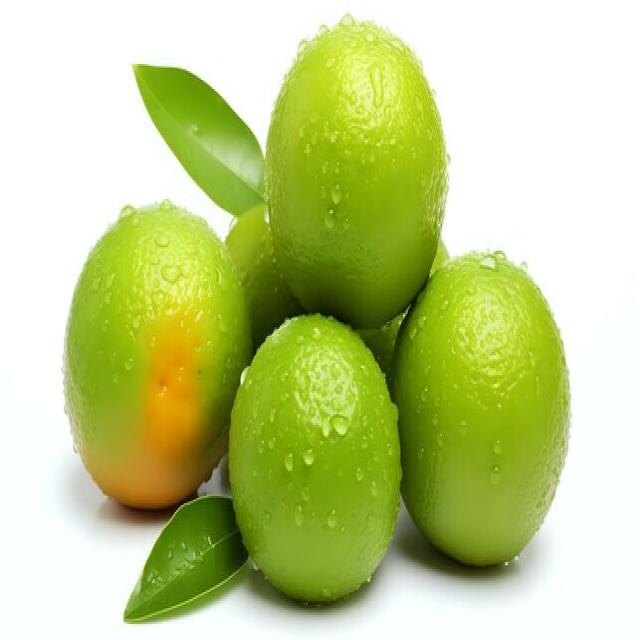Lemon: (62, 198, 251, 510), (263, 13, 449, 327), (390, 247, 571, 567), (227, 311, 402, 603)
